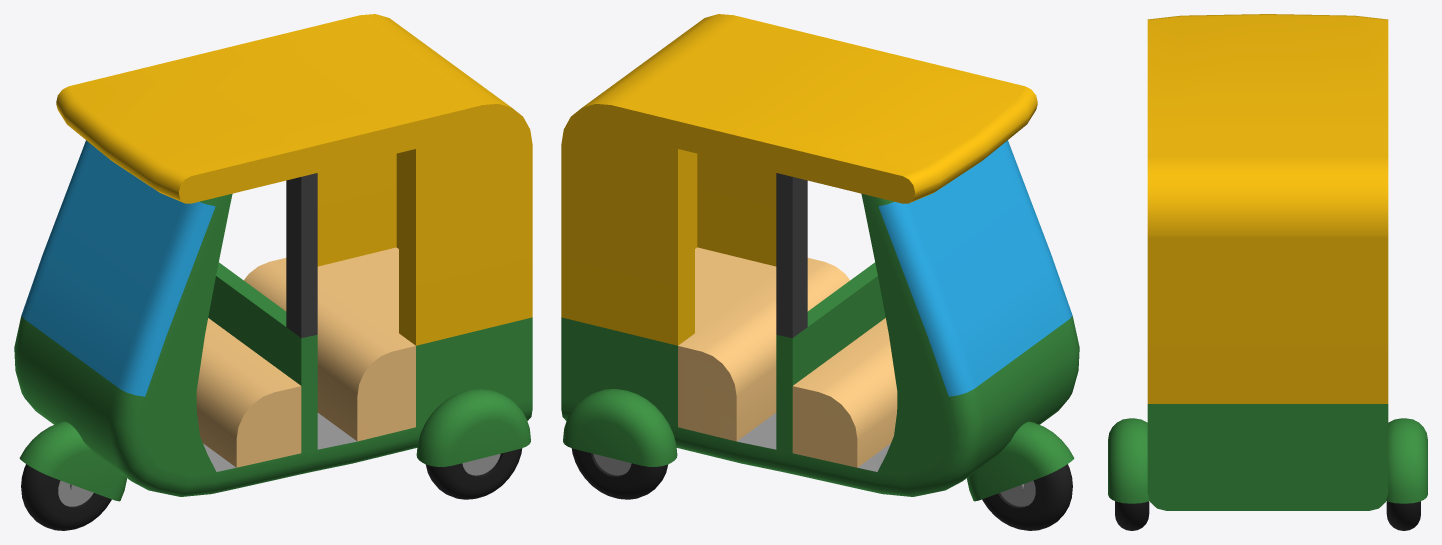
File: auto_rickshaw.fbx
3 views of the same model, side by side, from view 1: azimuth 30°, elevation 25°; view 2: azimuth 150°, elevation 25°; view 3: azimuth 270°, elevation 25° (orthographic). The views are drawn at different scales.
Parts seen in each view (by area): view 1: Cube.739; view 2: Cube.739; view 3: Cube.739.
Boxes of the visible parts, x1,y1,x2,y2 form: Cube.739: (14, 14, 532, 530); Cube.739: (561, 14, 1079, 530); Cube.739: (1108, 14, 1427, 530).
Size of the model in its own units: 219 by 179 by 138.
Materials: 1 (1 with a texture image).
